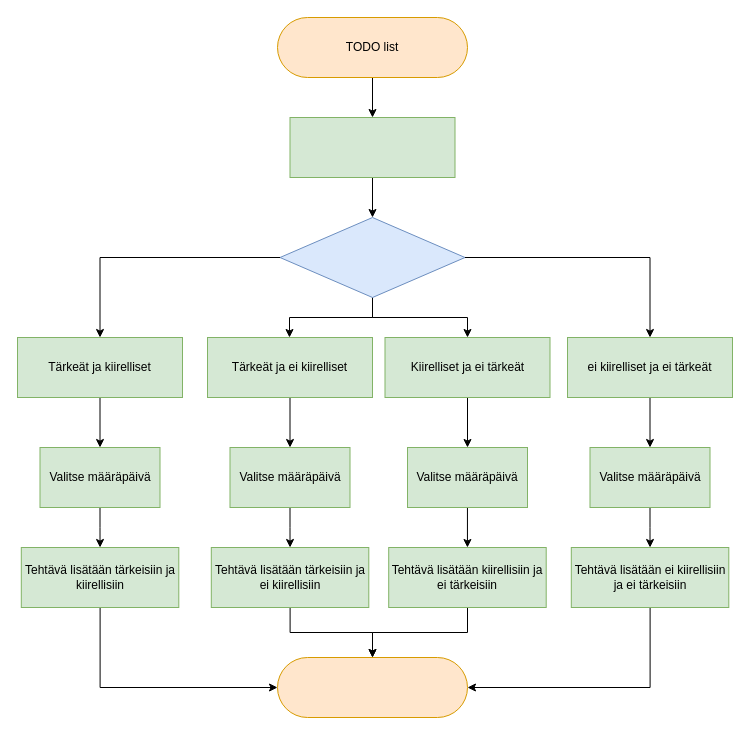
Some shapes in this 750 by 735 pixel diagram are drawn without their labels. Each missing label, with the box of its shape:
Kirjoita sinun tehtäväsi: (289, 116, 455, 178)
Loppu: (276, 656, 468, 718)
Valitse minkälainen sinun tehtävä on: (279, 216, 465, 298)
